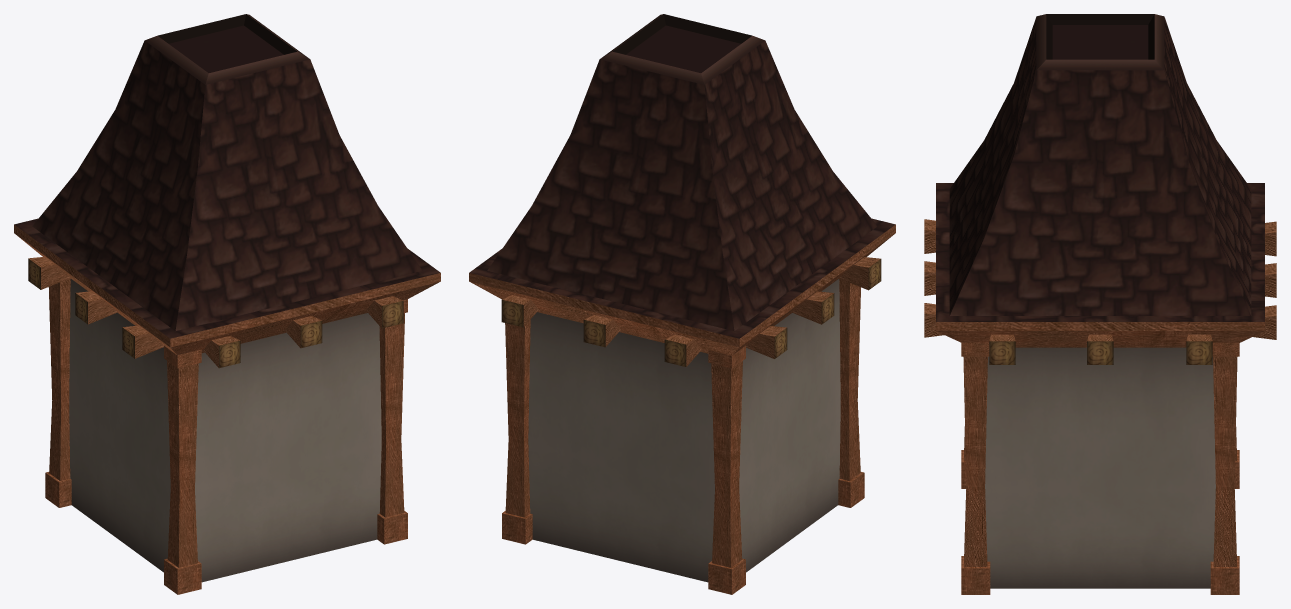
The model's file is fanasty_mod_squ_tower_sml.fbx.
The picture shows the model from 3 angles, left to right: view 1: azimuth 30°, elevation 25°; view 2: azimuth 150°, elevation 25°; view 3: azimuth 270°, elevation 25°; orthographic projection. The views are drawn at different scales.
Parts seen in each view (by area): view 1: squ_tower_sml; view 2: squ_tower_sml; view 3: squ_tower_sml.
Part boxes in pixels (left/top/right/bottom): squ_tower_sml: left=14, top=14, right=440, bottom=594; squ_tower_sml: left=469, top=14, right=895, bottom=594; squ_tower_sml: left=924, top=14, right=1276, bottom=594.
Size of the model in its own units: 4.58 by 7.13 by 4.56.
